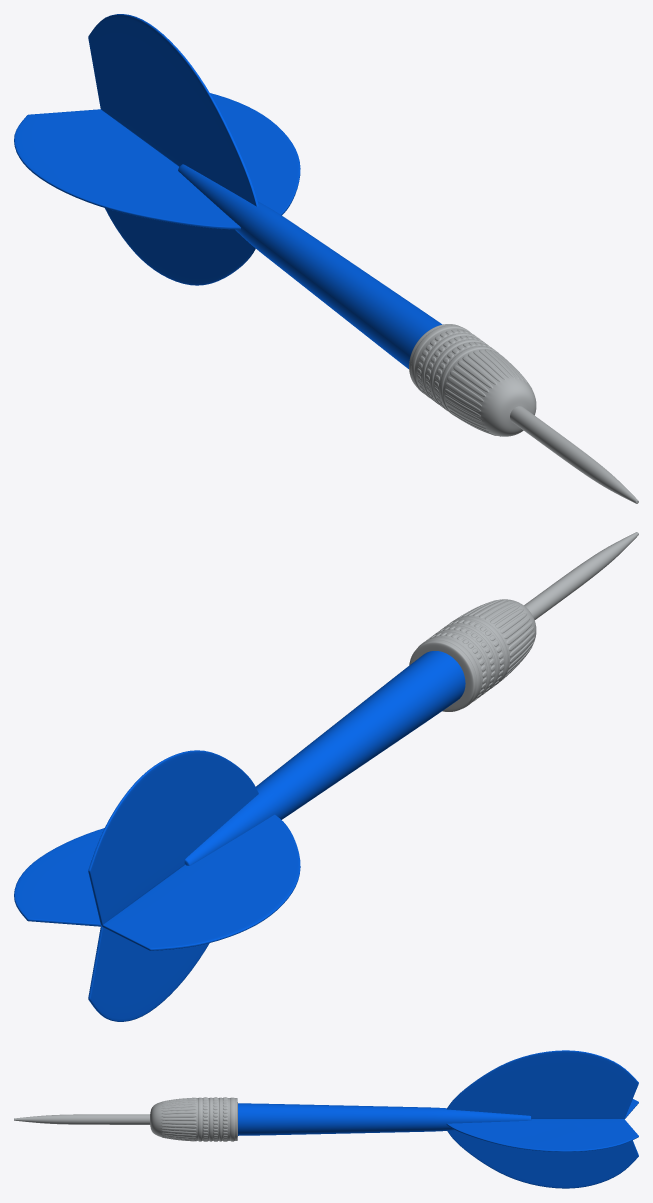
Rendered from dardoAzul.fbx.
The picture shows the model from 3 angles, top to bottom: view 1: azimuth 30°, elevation 25°; view 2: azimuth 150°, elevation 25°; view 3: azimuth 270°, elevation 25°; orthographic projection. The views are drawn at different scales.
Visible parts, largest first — view 1: dart; view 2: dart; view 3: dart.
Boxes of the visible parts, x1,y1,x2,y2 form: dart: (14,14,638,503); dart: (14,532,638,1021); dart: (14,1050,638,1188).
Bounding box in the file's own units: 3.59 × 3.59 × 14.74.
